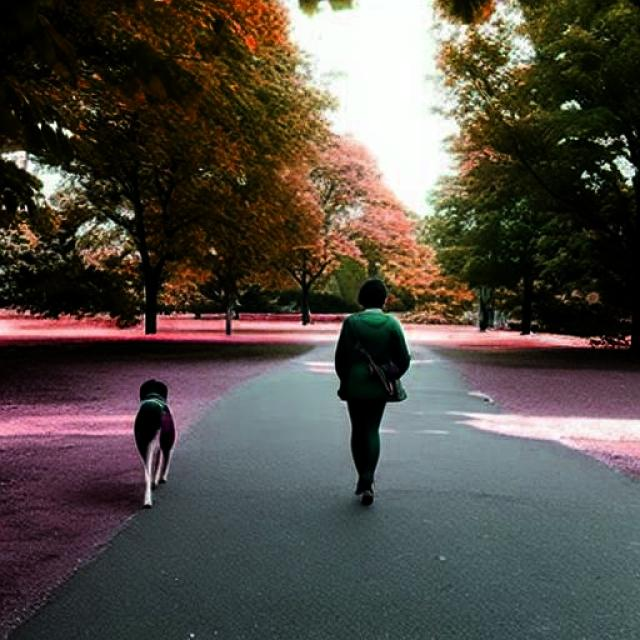Unleashed_Dog: (134, 372, 383, 509)
